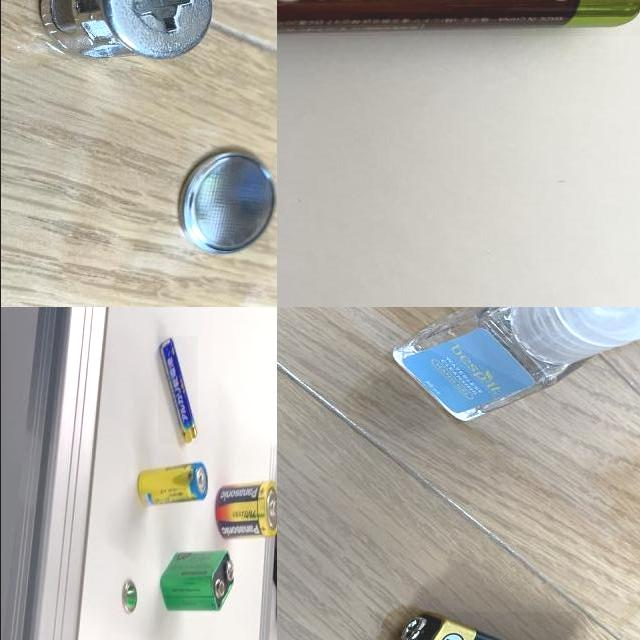9V: (375, 612, 585, 640), (159, 549, 237, 614)
